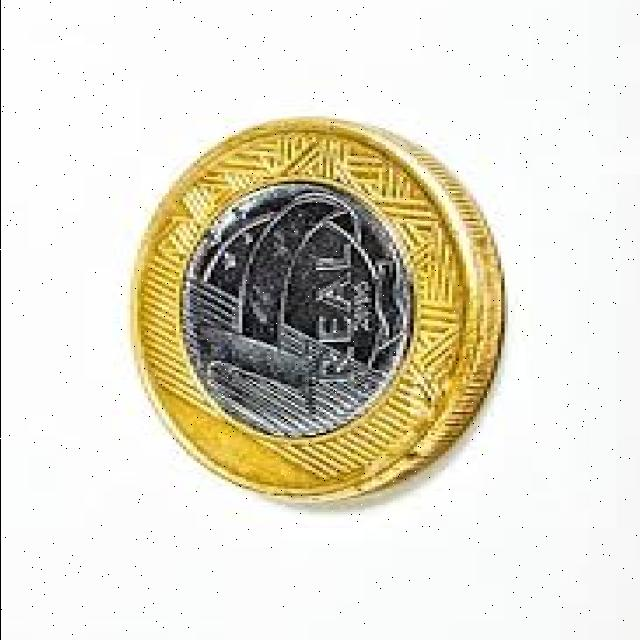1 real: (128, 123, 516, 497)
